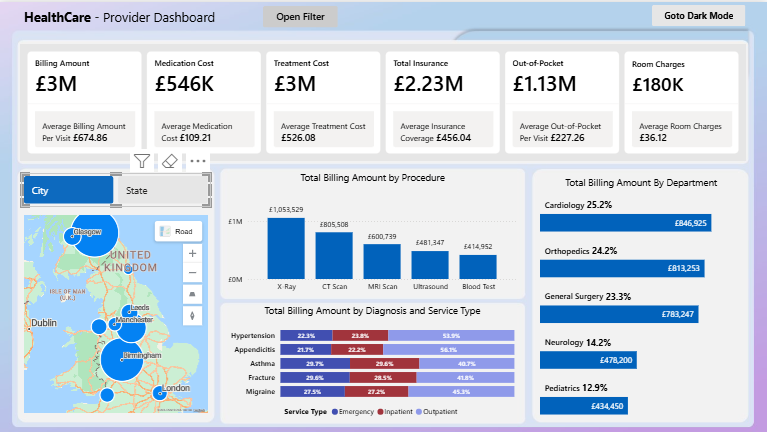

What the dashboard file says about the page in this screenshot:
{"tool":"powerbi","page":{"name":"Dashboard_1","canvas":[1280,720],"ordinal":0},"visuals":[{"type":"cardVisual","fields":{"Data":["_Measures.Total Billing Amount","_Measures.Total Medication Cost","_Measures.Total Treatment Cost","_Measures.Total Insurance Coverage","_Measures.Out-of-Pockt","_Measures.Total Room Charges"]},"box":[29.9,65.6,1221.6,205.3],"z":0},{"type":"actionButton","title":"Open","box":[439.4,7.1,124.8,35.9],"z":1000,"group":"g1"},{"type":"advancedSlicerVisual","fields":{"Values":["Patients Location Switch.Patients Location Switch"]},"box":[36.2,284.9,316.7,56.4],"z":1000},{"type":"azureMap","fields":{"Category":["cities.City"],"Size":["_Measures.Total Billing Amount"]},"box":[36.2,350,316.7,339.9],"z":2000},{"type":"clusteredColumnChart","fields":{"Category":["procedures.Procedure"],"Y":["_Measures.Total Billing Amount"]},"box":[377,282,491.8,210],"z":3000},{"type":"hundredPercentStackedBarChart","fields":{"Y":["_Measures.Total Billing Amount"],"Category":["diagnoses.Diagnosis"],"Series":["visits.Service Type"]},"box":[380,503.3,484.4,197.8],"z":4000},{"type":"clusteredBarChart","title":"Total Billing Amount By Department","fields":{"Y":["_Measures.Blank Measure","_Measures.Total Billing Amount"],"Category":["departments.Department"]},"box":[897.2,290.6,347.2,405],"z":5000},{"type":"actionButton","box":[1088.5,5.7,155.9,35.4],"z":6000},{"type":"textbox","box":[36.9,4.3,350.1,41.1],"z":7000},{"type":"group","id":"g1","title":"Slicer Button","box":[439.4,7.1,124.7,35.4],"z":9000}]}

Visuals, with their boxes in screenshot pixels (x1, y1, x2, y2), scaled from the page's 1280x720 canvas onto the 767x433 screenshot:
cardVisual - _Measures.Total Billing Amount x _Measures.Total Medication Cost: crop(18, 39, 750, 163)
"Open" actionButton: crop(263, 4, 338, 26)
advancedSlicerVisual - Patients Location Switch.Patients Location Switch: crop(22, 171, 211, 205)
azureMap - cities.City x _Measures.Total Billing Amount: crop(22, 210, 211, 415)
clusteredColumnChart - procedures.Procedure x _Measures.Total Billing Amount: crop(226, 170, 521, 296)
hundredPercentStackedBarChart - _Measures.Total Billing Amount x diagnoses.Diagnosis: crop(228, 303, 518, 422)
"Total Billing Amount By Department" clusteredBarChart: crop(538, 175, 746, 418)
actionButton: crop(652, 3, 746, 25)
textbox: crop(22, 3, 232, 27)
"Slicer Button" group: crop(263, 4, 338, 26)
